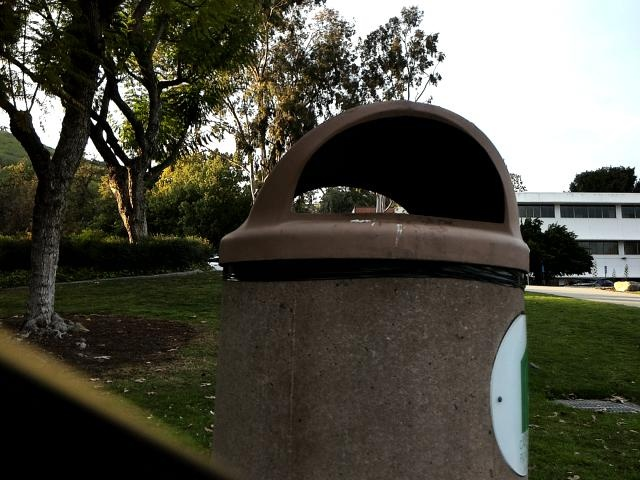trashcan: (214, 96, 536, 480)
